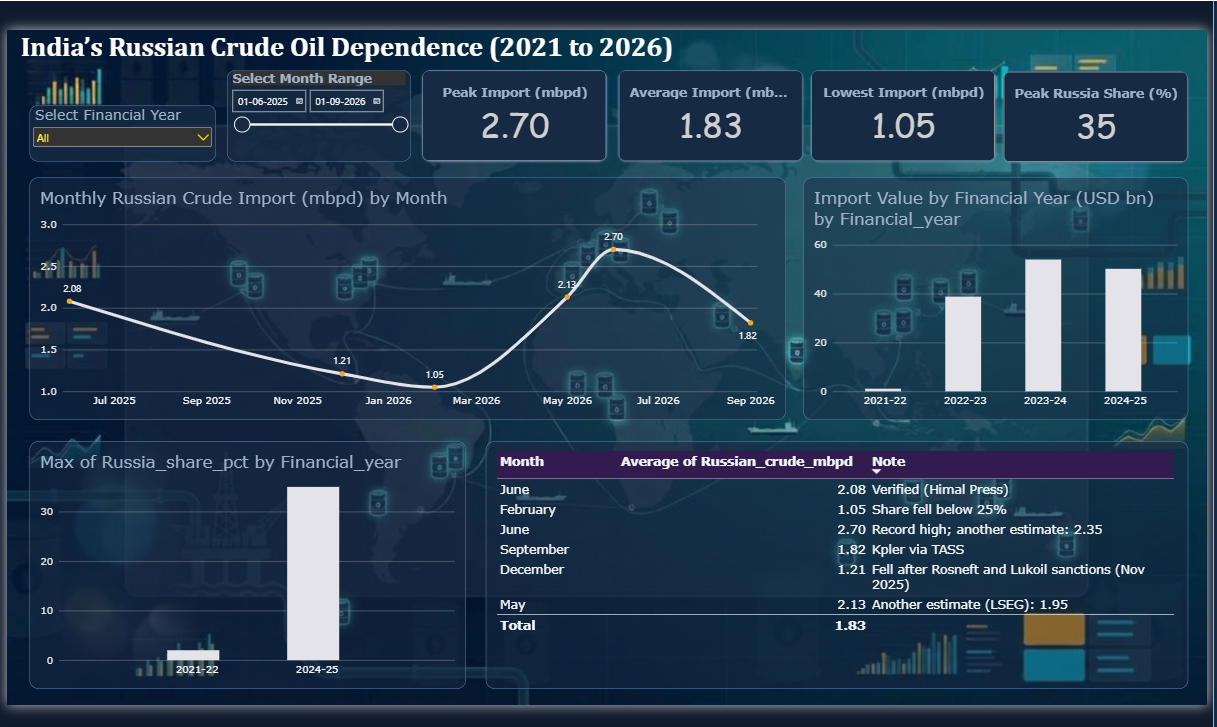

What the dashboard file says about the page in this screenshot:
{"tool":"powerbi","page":{"name":"Dashboard","canvas":[1920,1080],"ordinal":0},"visuals":[{"type":"cardVisual","fields":{"Data":["Min(Monthly_Data.Russian_crude_mbpd)"]},"box":[1286,64,296,146],"z":0},{"type":"cardVisual","fields":{"Data":["Avg(Monthly_Data.Russian_crude_mbpd)"]},"box":[978,64,296,146],"z":1000},{"type":"cardVisual","fields":{"Data":["Max(Annual_Data.Russia_share_pct)"]},"box":[1594,66,296,146],"z":2000},{"type":"lineChart","fields":{"Category":["Monthly_Data.Month"],"Y":["Sum(Monthly_Data.Russian_crude_mbpd)"]},"box":[36,236,1210,388],"z":3000},{"type":"clusteredColumnChart","fields":{"Category":["Annual_Data.Financial_year"],"Y":["Max(Annual_Data.Import_value_usd_bn)"]},"box":[1274,236,616,388],"z":4000},{"type":"slicer","fields":{"Values":["Monthly_Data.Month"]},"box":[352,64,294,146],"z":5000},{"type":"slicer","fields":{"Values":["Annual_Data.Financial_year"]},"box":[36,120,298.2,90],"z":6000},{"type":"textbox","box":[22,0,1064,68],"z":7000},{"type":"clusteredColumnChart","fields":{"Category":["Annual_Data.Financial_year"],"Y":["Max(Annual_Data.Russia_share_pct)"]},"box":[36,658,698,396],"z":8000},{"type":"tableEx","fields":{"Values":["Monthly_Data.Month.Variation.Date Hierarchy.Month","Avg(Monthly_Data.Russian_crude_mbpd)","Monthly_Data.Note"]},"box":[766,658,1124,396],"z":9000},{"type":"cardVisual","fields":{"Data":["Max(Monthly_Data.Russian_crude_mbpd)"]},"box":[664,64,296,146],"z":10000}]}

Visuals, with their boxes on the page's 1920x1080 design canvas (x1, y1, x2, y2). These are canvas units, not pixel positions in the 1217x727 screenshot, which may show the page scaled, cropped or inside an application window:
cardVisual - Min(Monthly_Data.Russian_crude_mbpd): Rect(1286, 64, 1582, 210)
cardVisual - Avg(Monthly_Data.Russian_crude_mbpd): Rect(978, 64, 1274, 210)
cardVisual - Max(Annual_Data.Russia_share_pct): Rect(1594, 66, 1890, 212)
lineChart - Monthly_Data.Month x Sum(Monthly_Data.Russian_crude_mbpd): Rect(36, 236, 1246, 624)
clusteredColumnChart - Annual_Data.Financial_year x Max(Annual_Data.Import_value_usd_bn): Rect(1274, 236, 1890, 624)
slicer - Monthly_Data.Month: Rect(352, 64, 646, 210)
slicer - Annual_Data.Financial_year: Rect(36, 120, 334, 210)
textbox: Rect(22, 0, 1086, 68)
clusteredColumnChart - Annual_Data.Financial_year x Max(Annual_Data.Russia_share_pct): Rect(36, 658, 734, 1054)
tableEx - Monthly_Data.Month.Variation.Date Hierarchy.Month x Avg(Monthly_Data.Russian_crude_mbpd): Rect(766, 658, 1890, 1054)
cardVisual - Max(Monthly_Data.Russian_crude_mbpd): Rect(664, 64, 960, 210)
